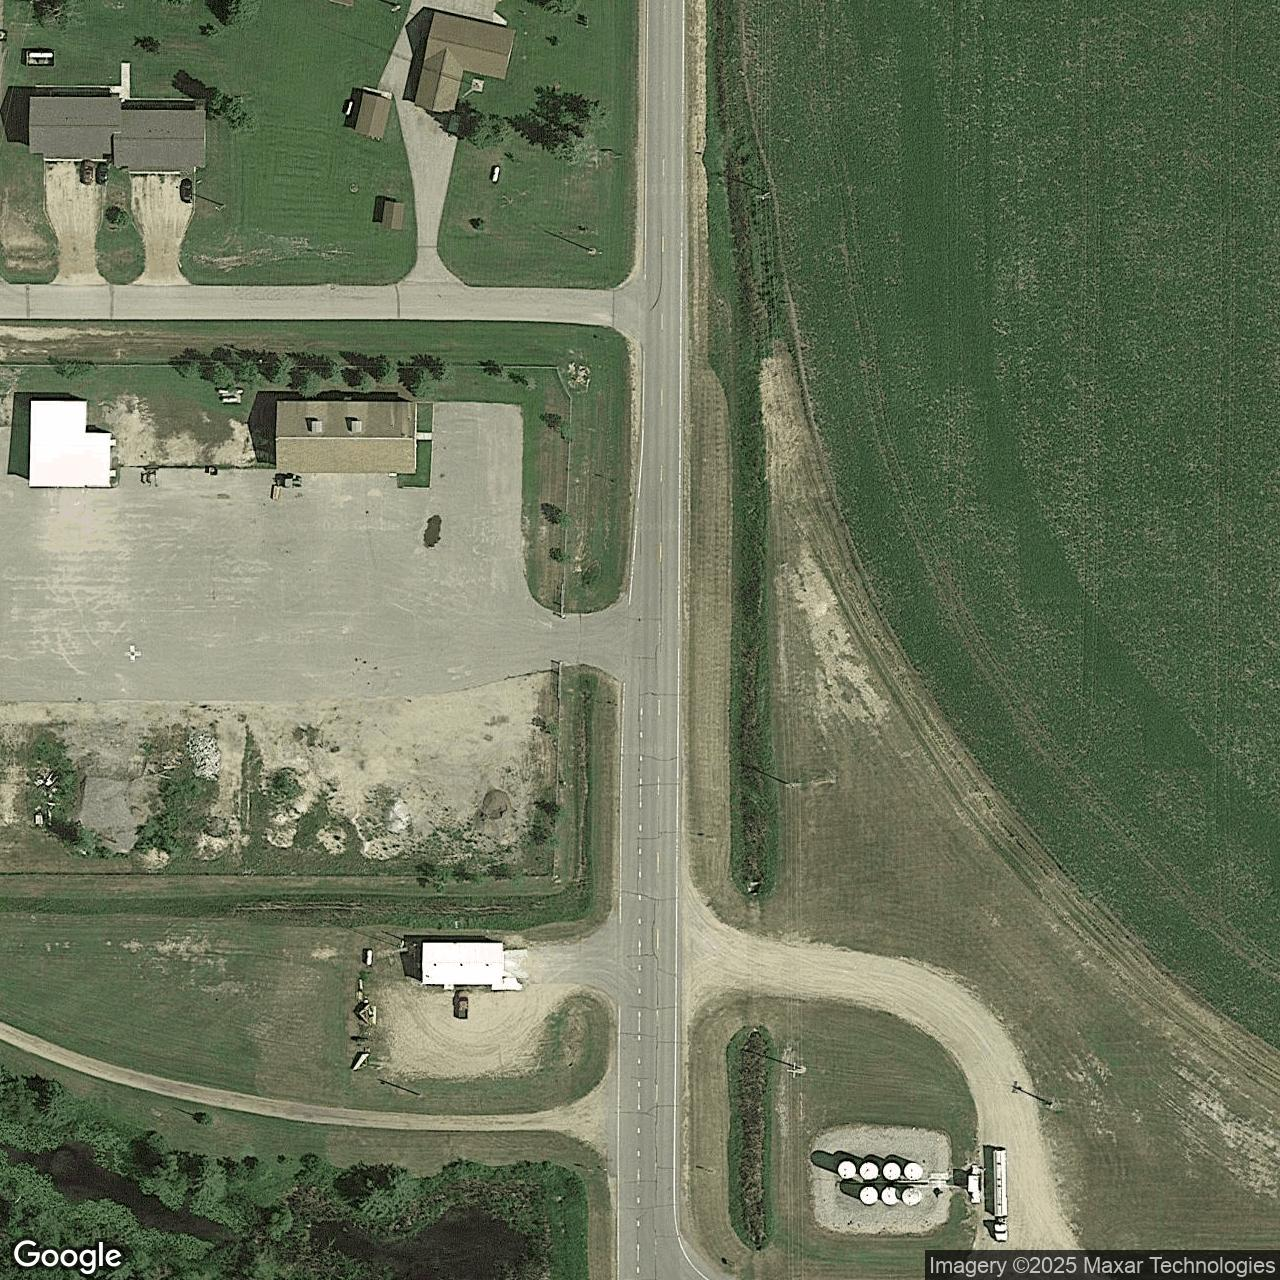Garage: (354, 93, 393, 139), (382, 200, 404, 230)
House: (29, 96, 206, 168), (275, 401, 417, 474), (414, 11, 516, 111)
Other: (28, 401, 117, 488), (422, 942, 506, 992)
Propane: (28, 48, 56, 61), (490, 163, 504, 185), (342, 97, 356, 118), (365, 946, 376, 968), (218, 387, 245, 396), (220, 395, 240, 406)
